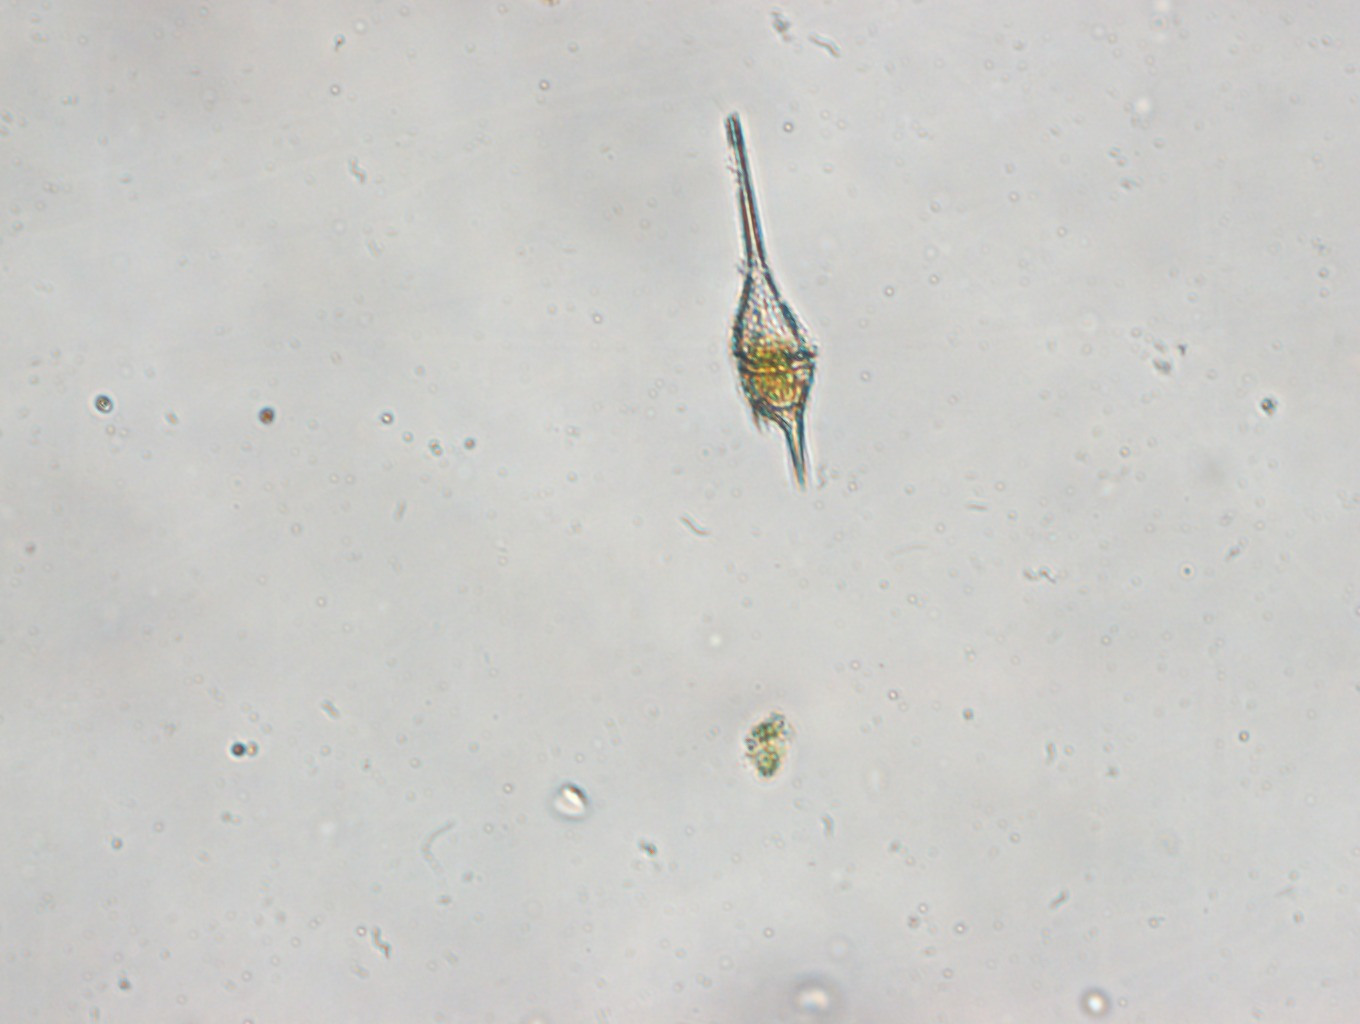ceratium furca: (713, 105, 826, 495)
